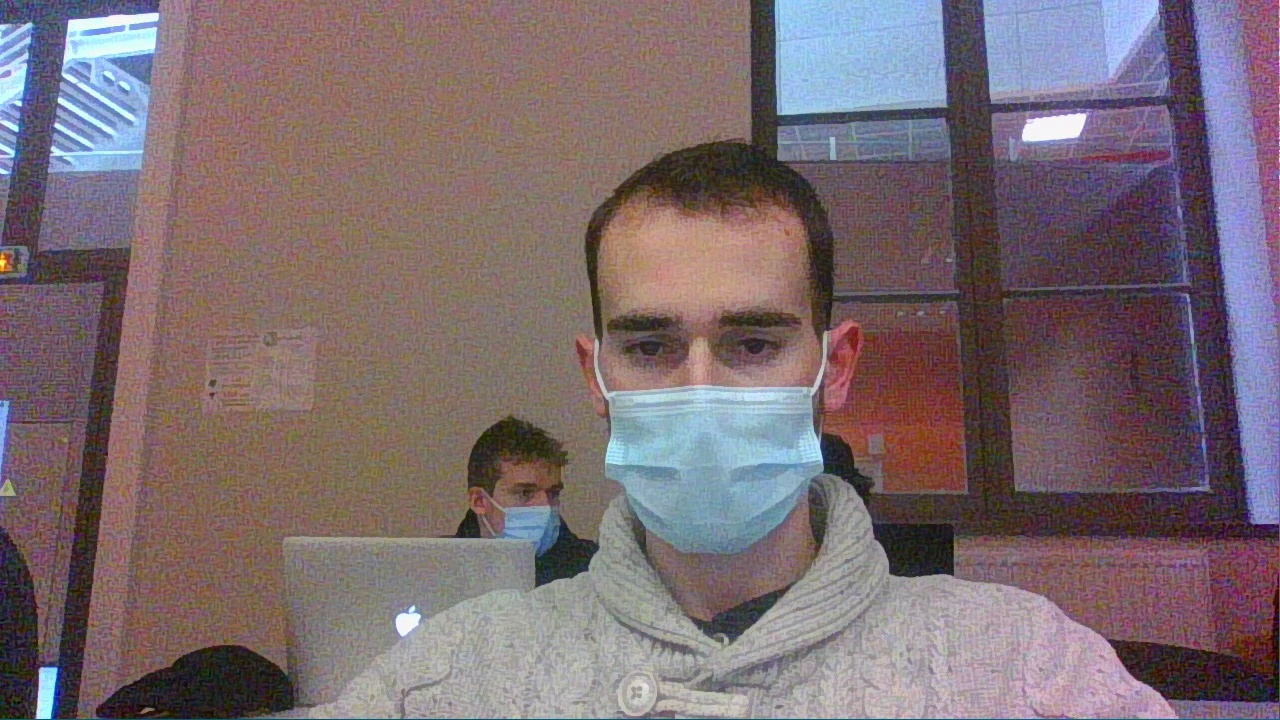mask: (559, 135, 850, 504), (465, 422, 556, 550)
